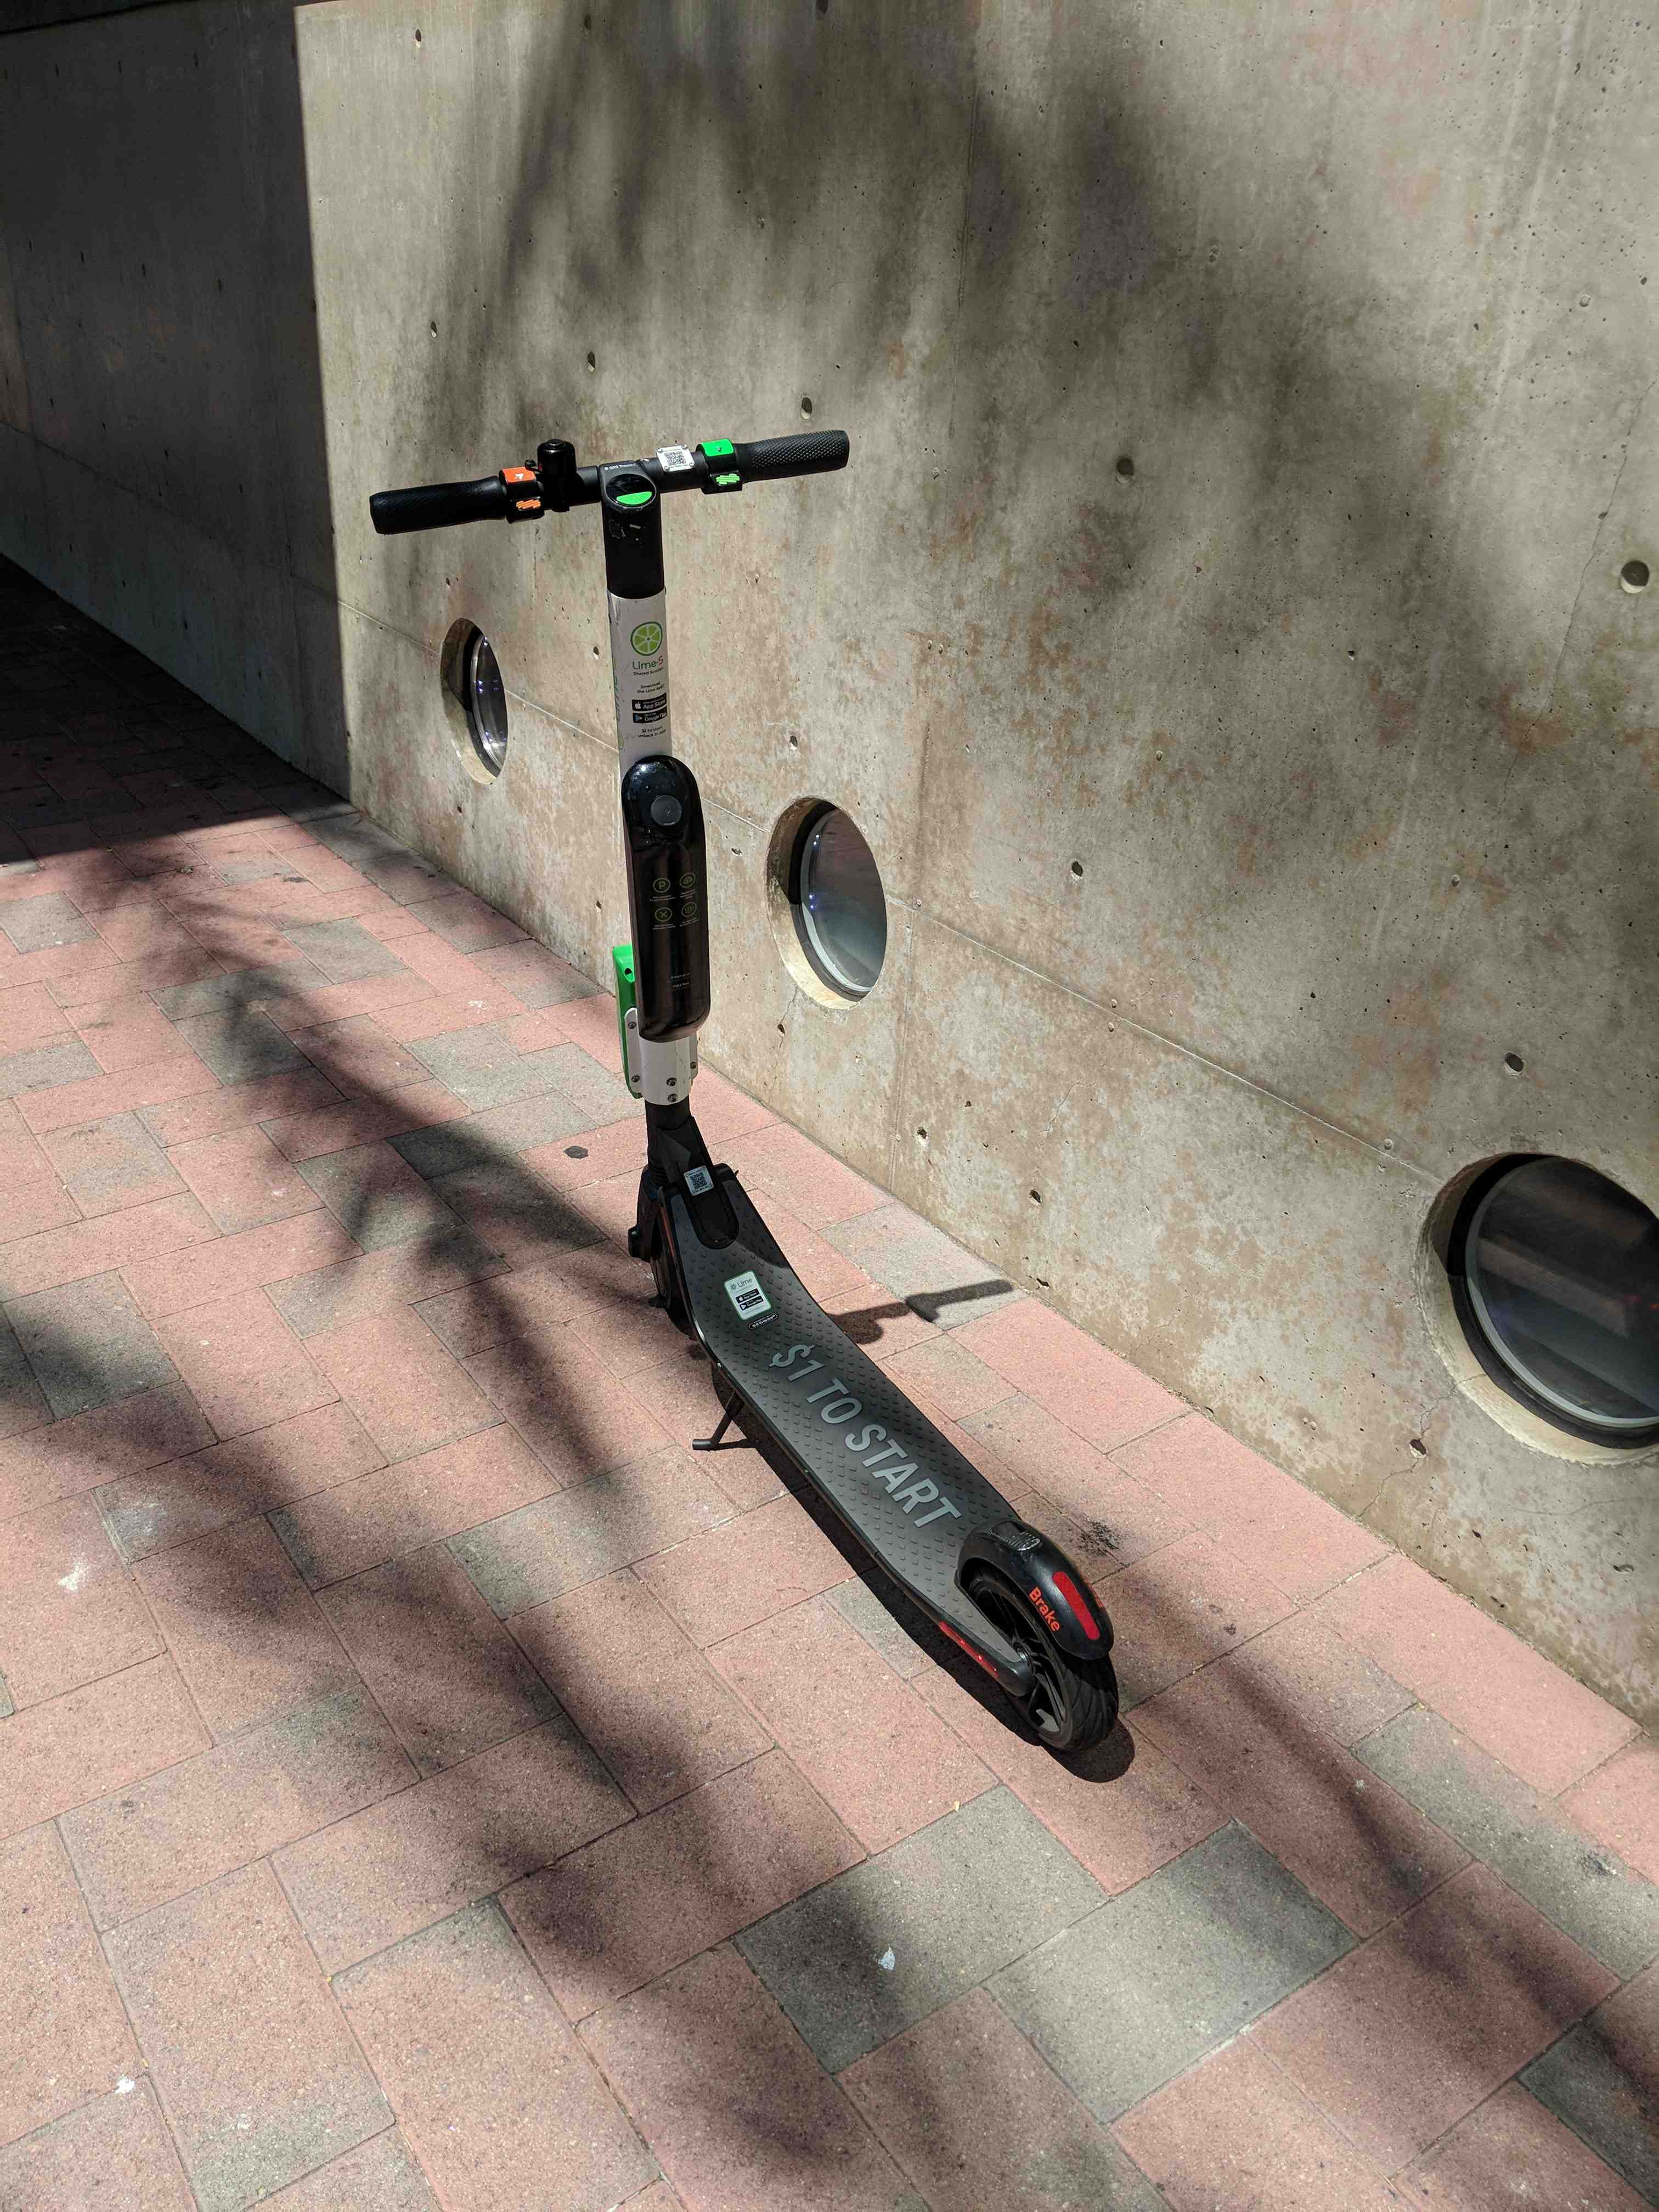scooter: (343, 423, 1169, 1789)
